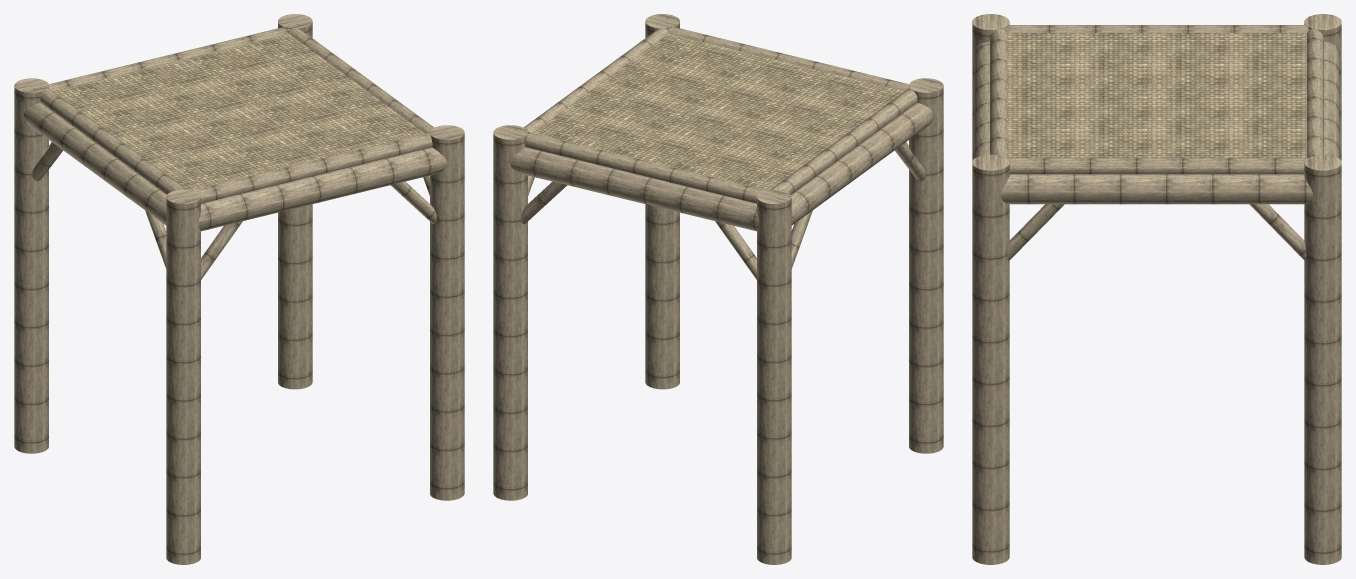
The model's file is foundation.glb.
3 renders of one model, left to right at view 1: azimuth 30°, elevation 25°; view 2: azimuth 150°, elevation 25°; view 3: azimuth 270°, elevation 25°, orthographic. The views are drawn at different scales.
Visible parts, largest first — view 1: foundation; view 2: foundation; view 3: foundation.
Boxes of the visible parts, <box> form: foundation: <box>14,14,464,564</box>; foundation: <box>493,14,943,564</box>; foundation: <box>972,14,1341,564</box>.
Size of the model in its own units: 7.23 by 8.48 by 7.2.
2 materials, 2 textured.
